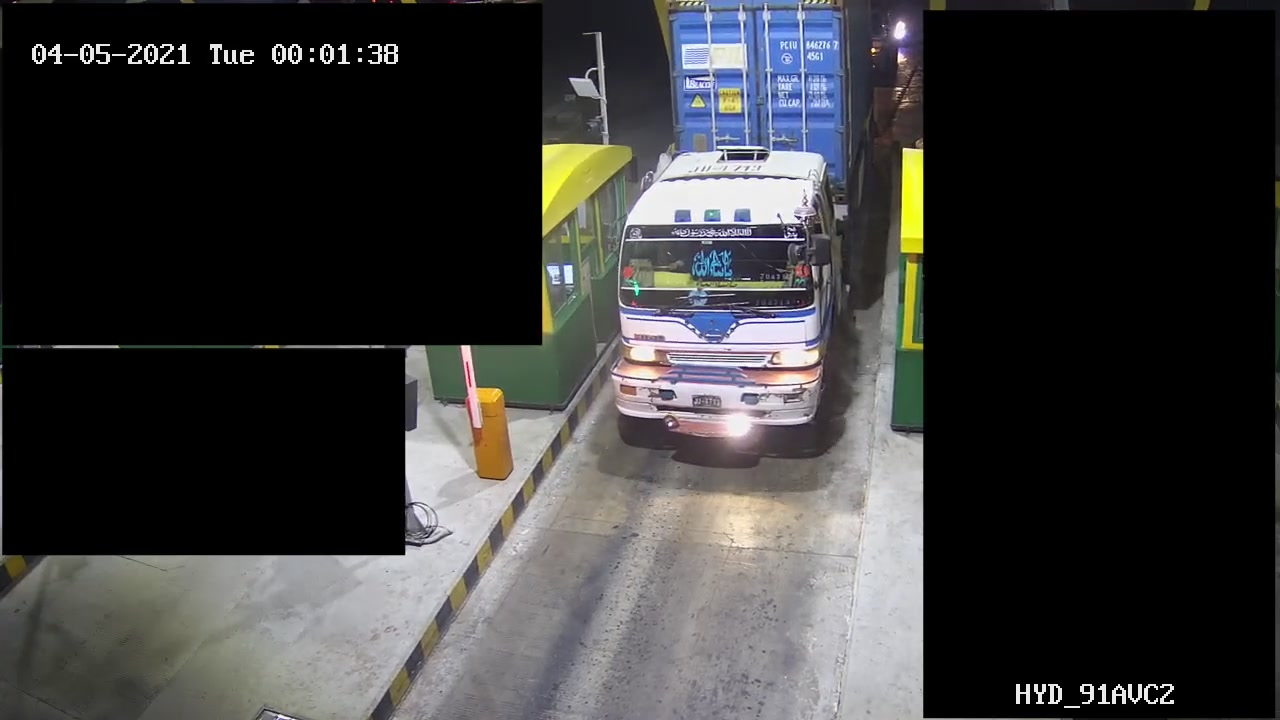F6: (598, 1, 885, 448)
